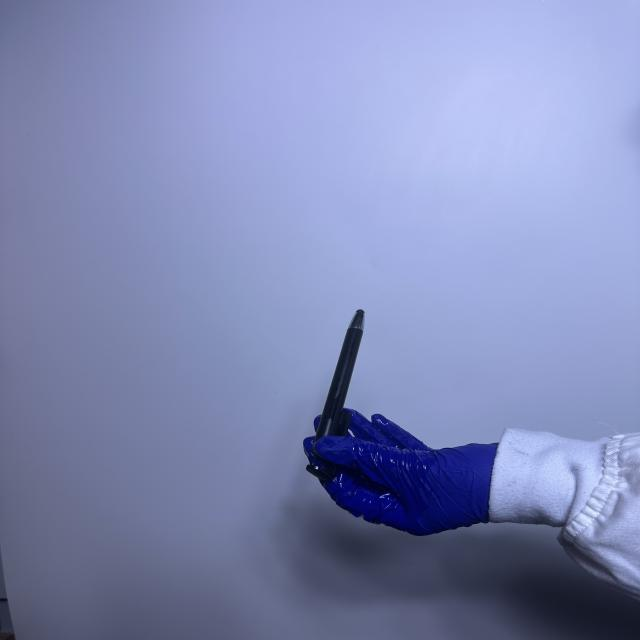gloves_contaminated: (303, 409, 497, 536)
